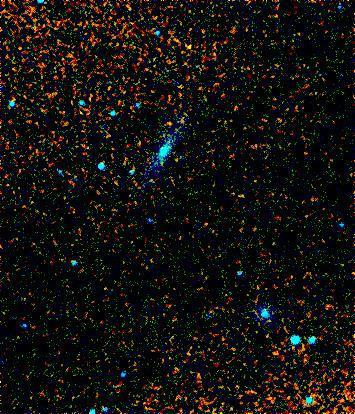star: (178, 32, 208, 62)
